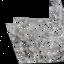Morning glory: (0, 0, 52, 13)
